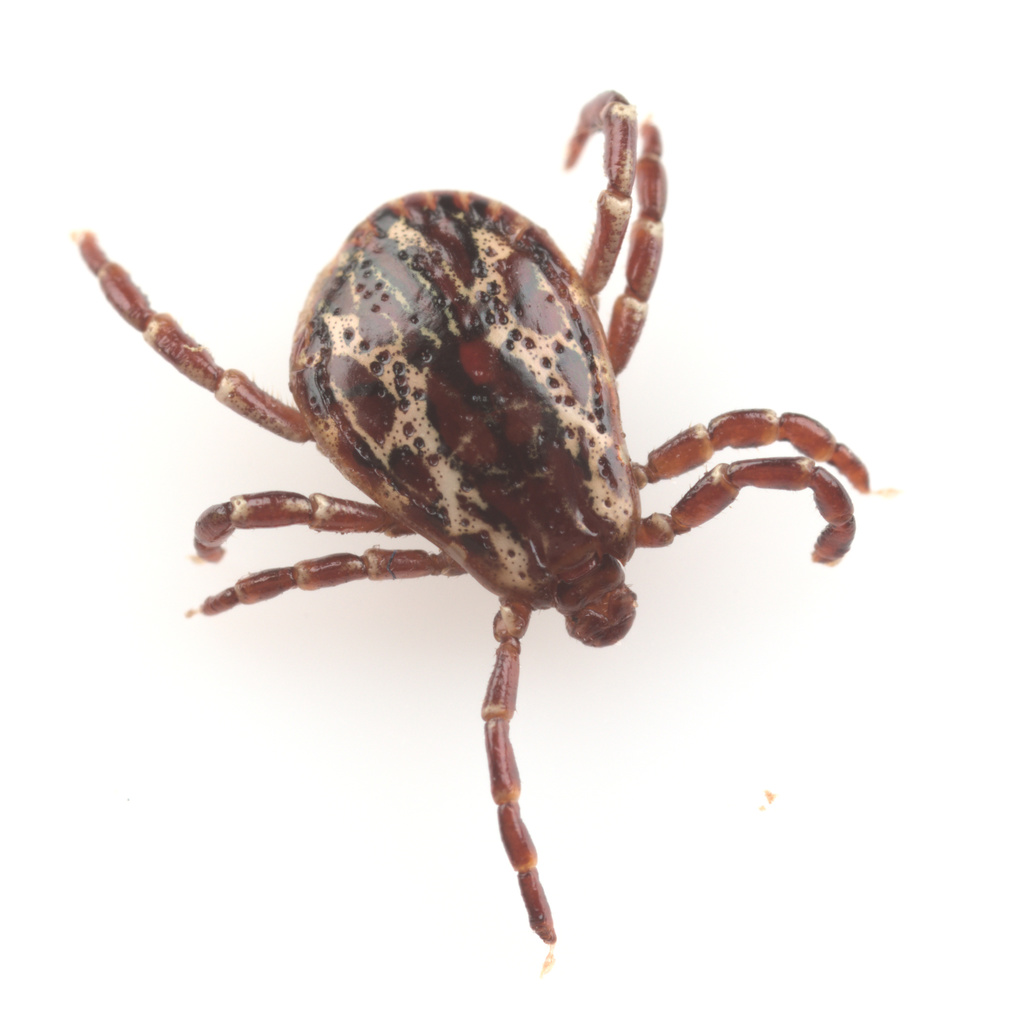garrapata: (65, 73, 911, 992)
